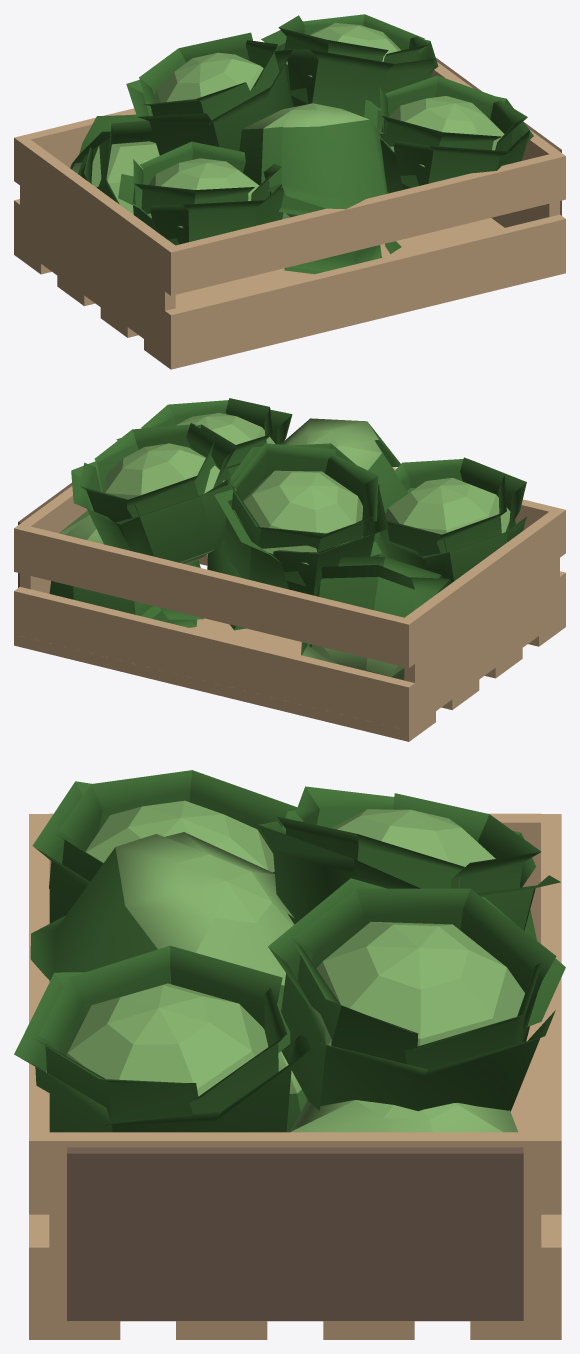
Rendered from cabbage crate.fbx.
3 renders of one model, top to bottom at view 1: azimuth 30°, elevation 25°; view 2: azimuth 150°, elevation 25°; view 3: azimuth 270°, elevation 25°, orthographic. The views are drawn at different scales.
Visible parts, largest first — view 1: crate; view 2: crate; view 3: crate.
Part boxes in pixels (x1,y1,x2,y2): crate: [14, 14, 565, 369]; crate: [14, 398, 565, 741]; crate: [14, 770, 565, 1339].
Bounding box in the file's own units: 15.23 × 7.61 × 10.59.
